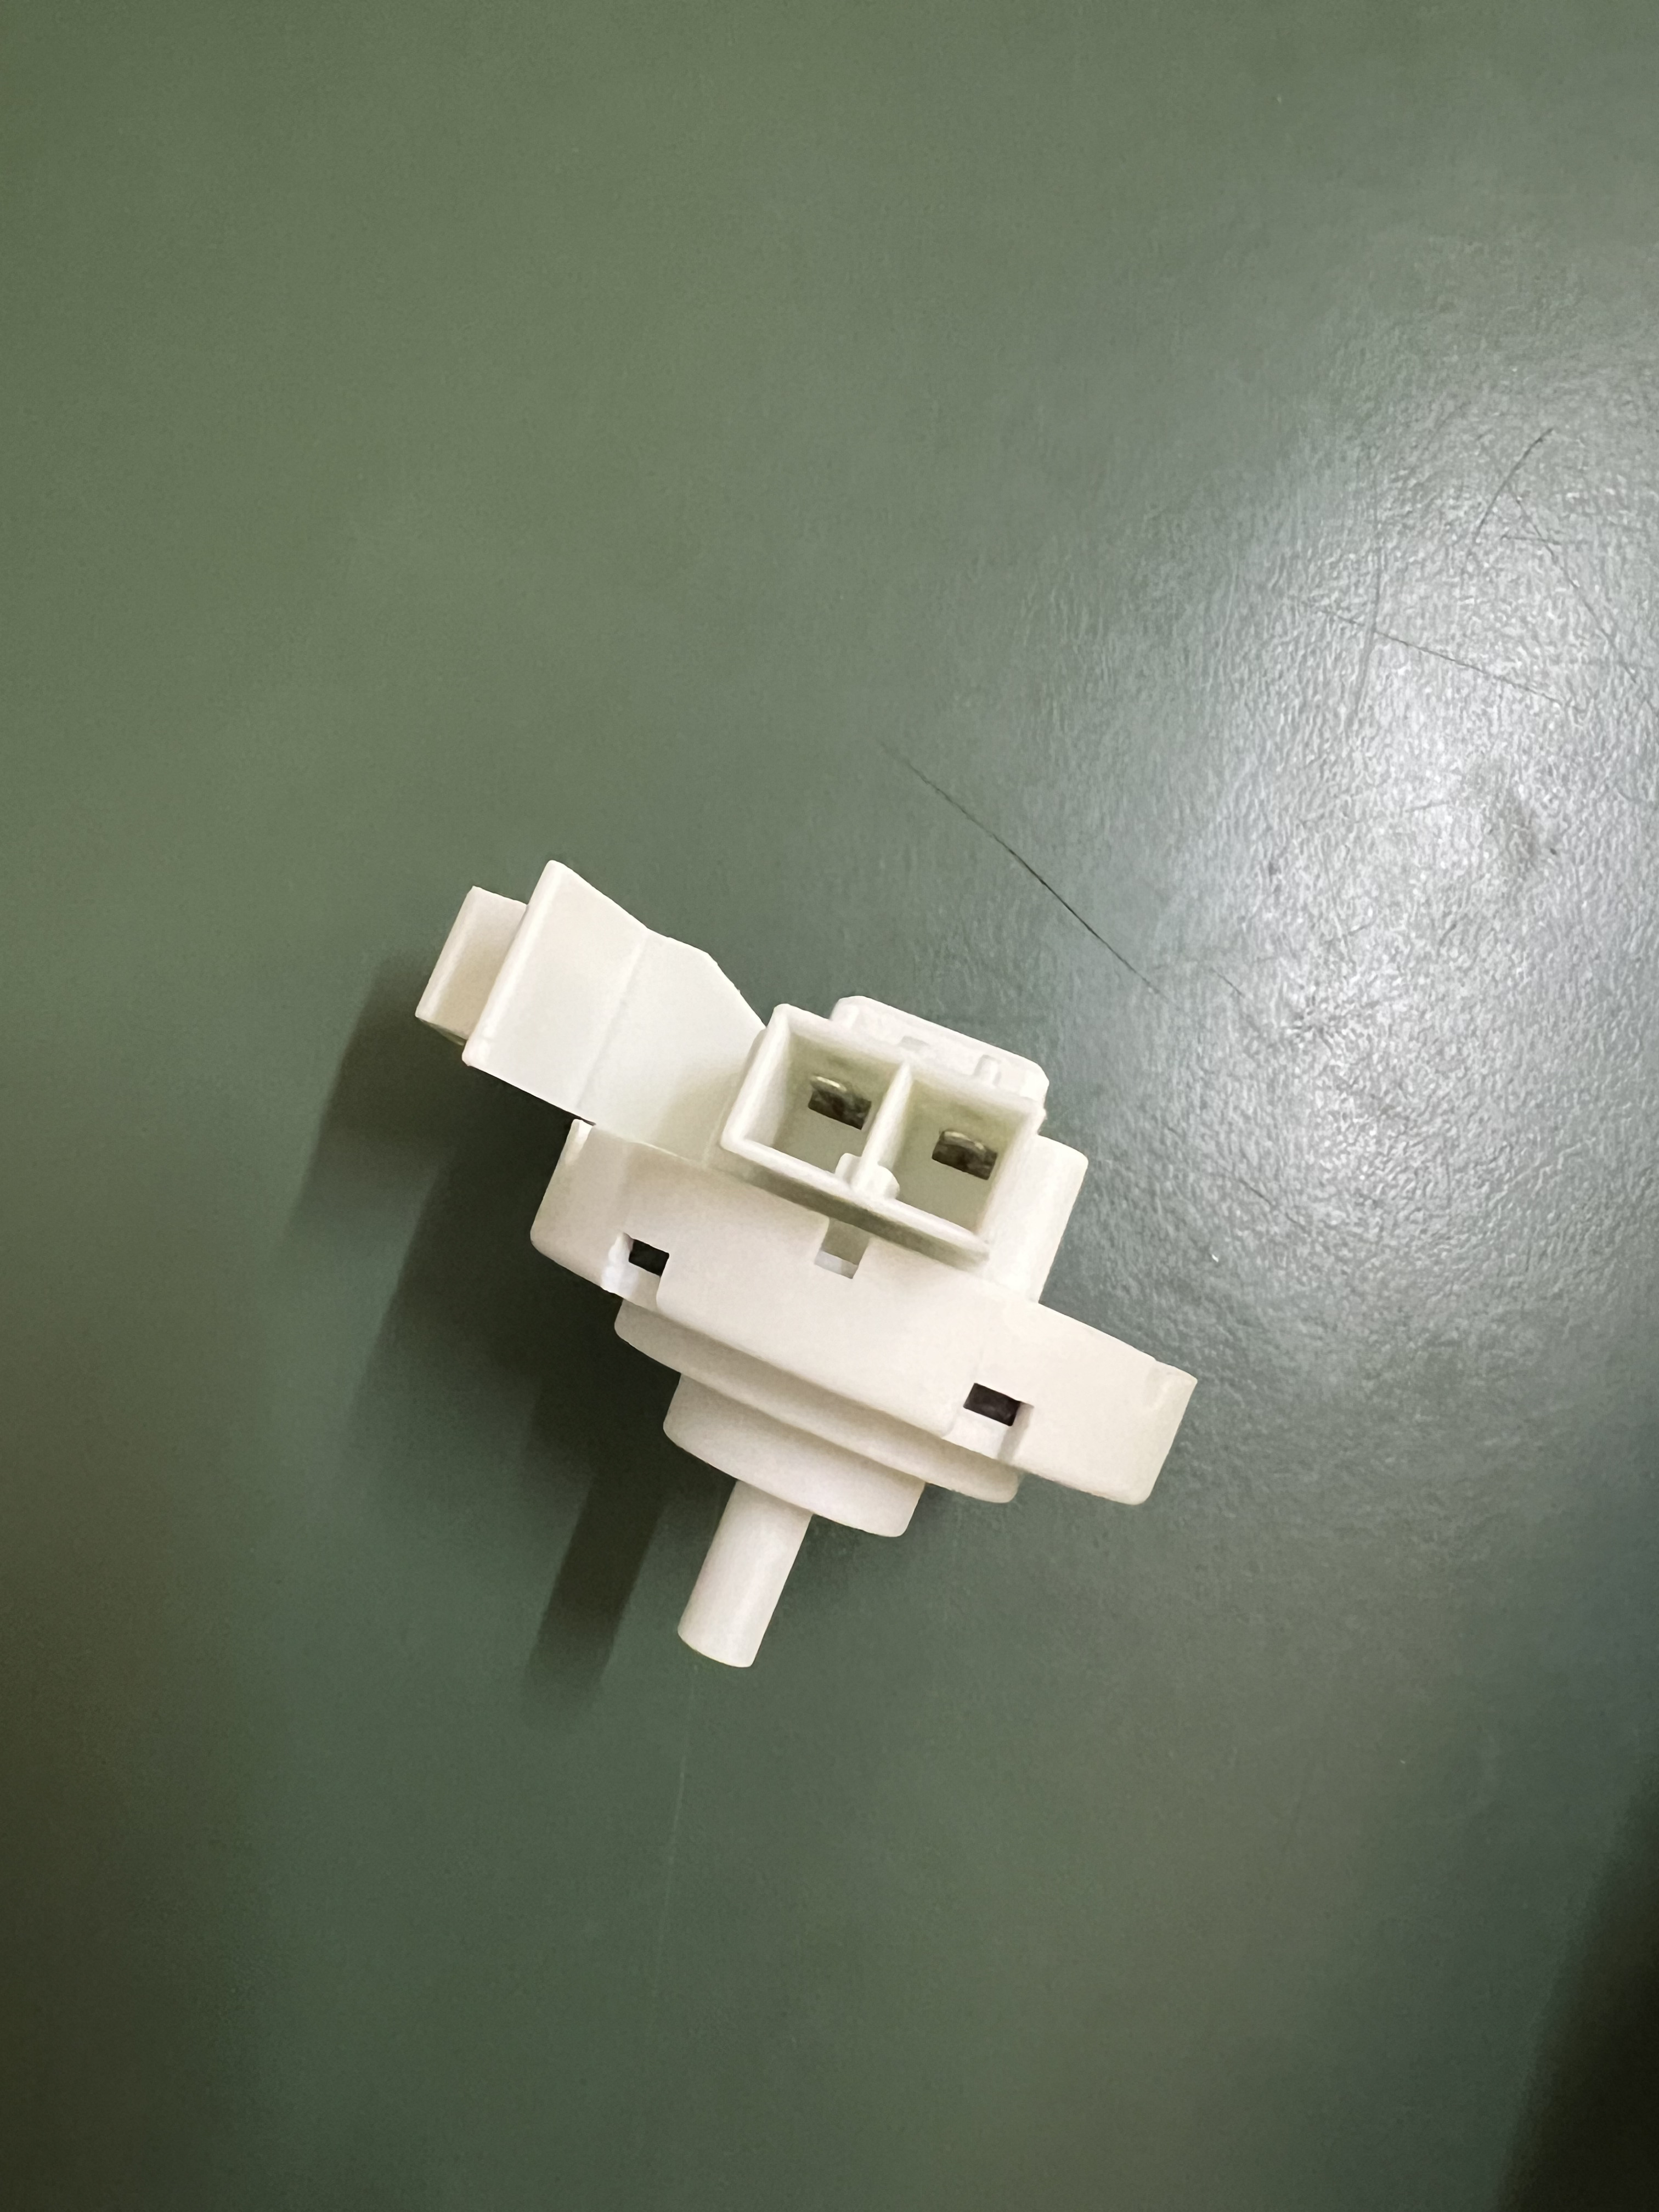pressure_switch_2: (406, 860, 1199, 1740)
